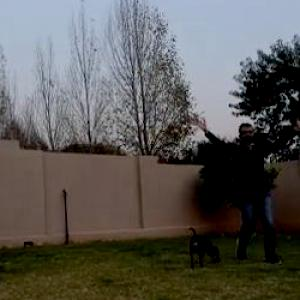takeoff: (189, 115, 299, 252)
